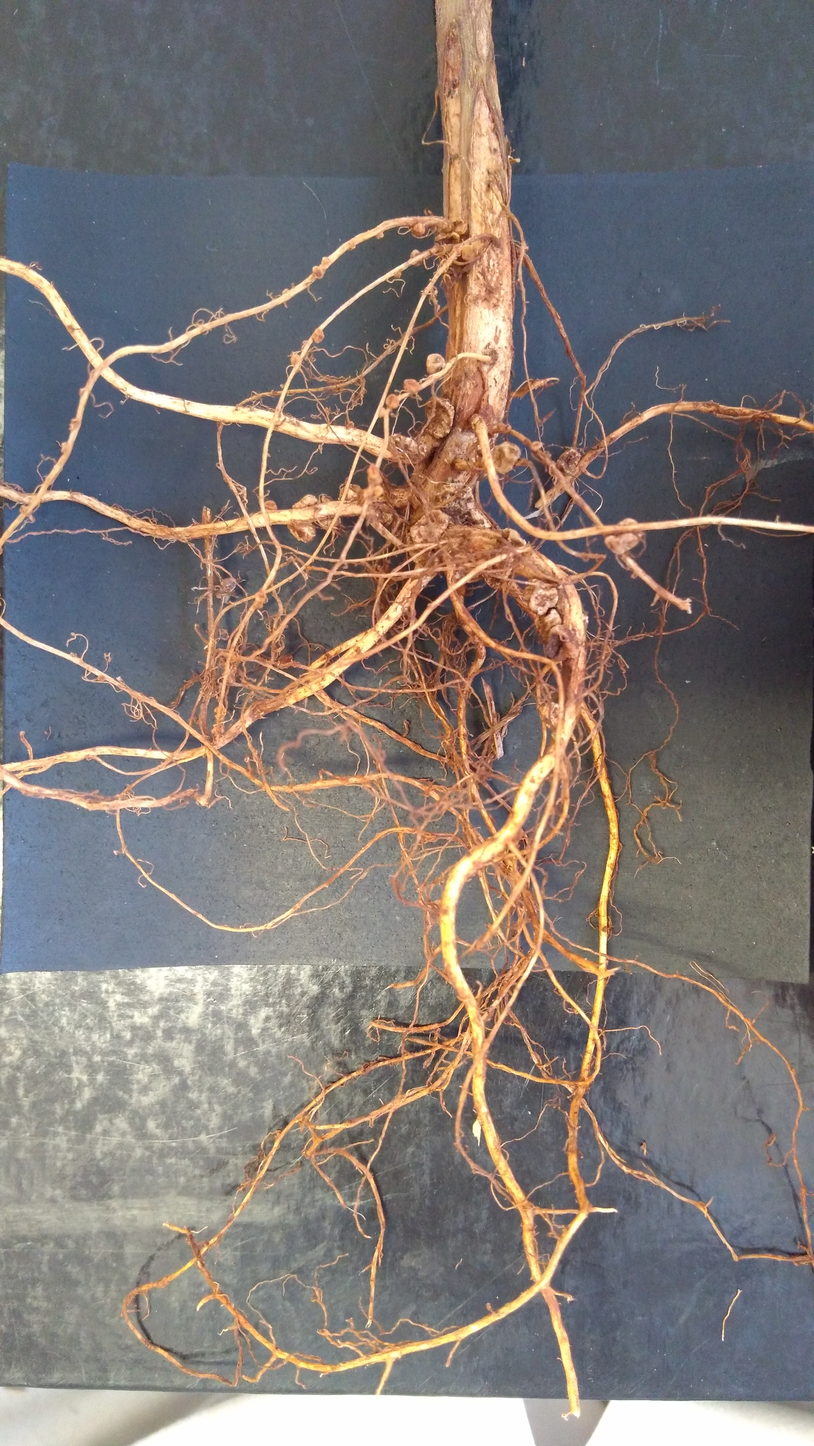nodule: (602, 515, 646, 557), (285, 493, 318, 544), (387, 430, 430, 469), (407, 508, 451, 546), (422, 396, 458, 441), (543, 623, 582, 660), (527, 583, 565, 617), (488, 438, 522, 476), (315, 489, 341, 536), (554, 445, 584, 479), (536, 607, 564, 641), (422, 351, 450, 377), (336, 479, 364, 505), (367, 501, 395, 527), (541, 701, 562, 729), (407, 245, 427, 271), (501, 528, 528, 547), (460, 241, 485, 261), (433, 232, 463, 248), (401, 376, 424, 396), (365, 462, 384, 485), (273, 653, 293, 673), (361, 484, 385, 500), (308, 326, 328, 345), (450, 216, 470, 235), (411, 219, 429, 240), (527, 440, 550, 455), (310, 264, 328, 283), (384, 391, 400, 412), (450, 455, 468, 473), (289, 352, 303, 374), (262, 497, 280, 513), (253, 591, 269, 603), (376, 406, 387, 420), (320, 253, 330, 267), (374, 231, 385, 241), (392, 270, 403, 280)
